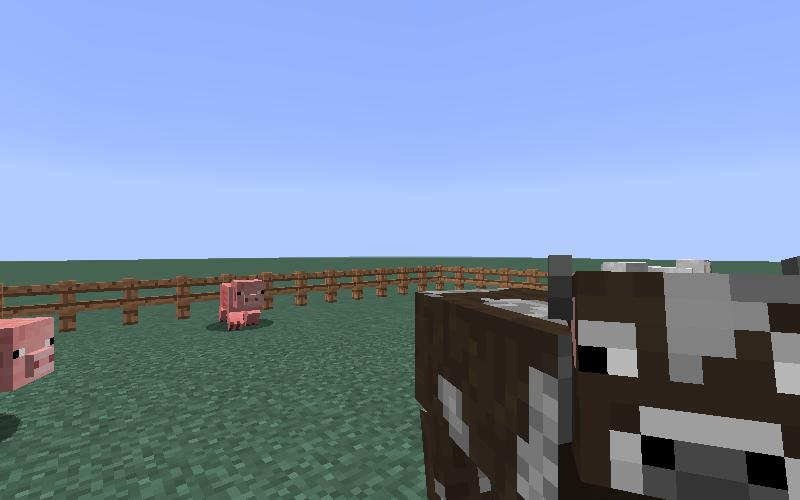cow: (406, 248, 800, 500)
pig: (1, 317, 55, 392), (213, 275, 270, 331)
